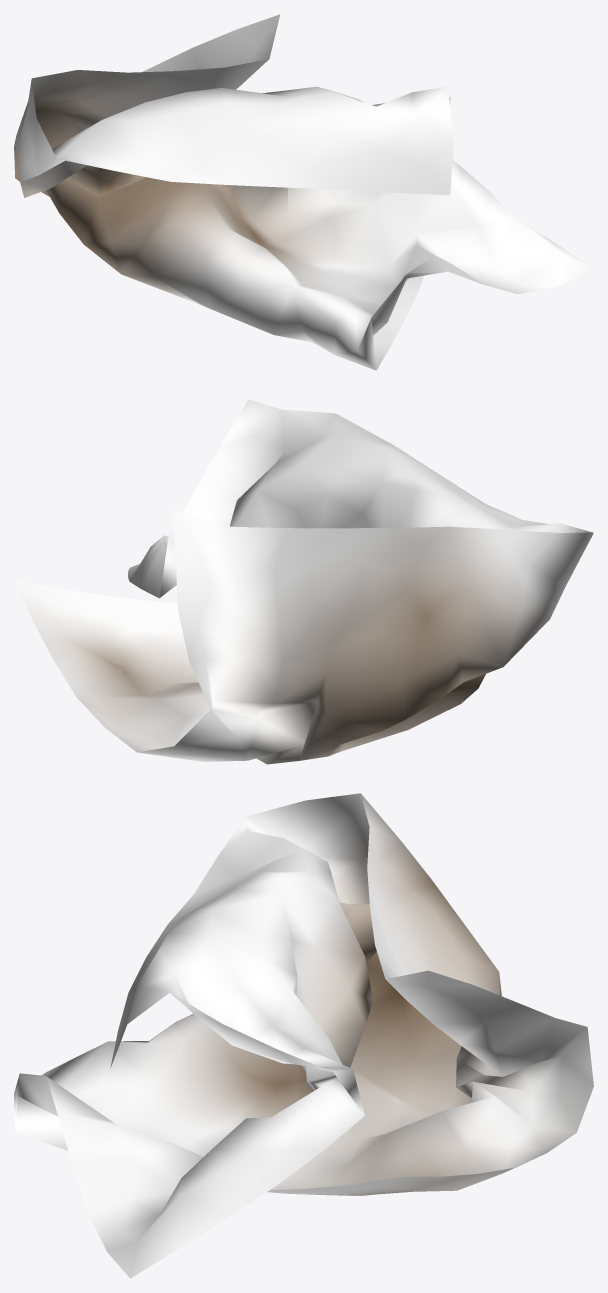
The model's file is dirty paper.FBX.
The picture shows the model from 3 angles, top to bottom: view 1: azimuth 30°, elevation 25°; view 2: azimuth 150°, elevation 25°; view 3: azimuth 270°, elevation 25°; orthographic projection. The views are drawn at different scales.
Visible parts, largest first — view 1: dirty paper; view 2: dirty paper; view 3: dirty paper.
Part boxes in pixels (box(x1,y1,x2,y2)): dirty paper: box(14, 14, 593, 370); dirty paper: box(14, 399, 593, 764); dirty paper: box(14, 793, 593, 1278).
Size of the model in its own units: 18.78 by 8.33 by 17.95.
Materials: 1 (1 with a texture image).
